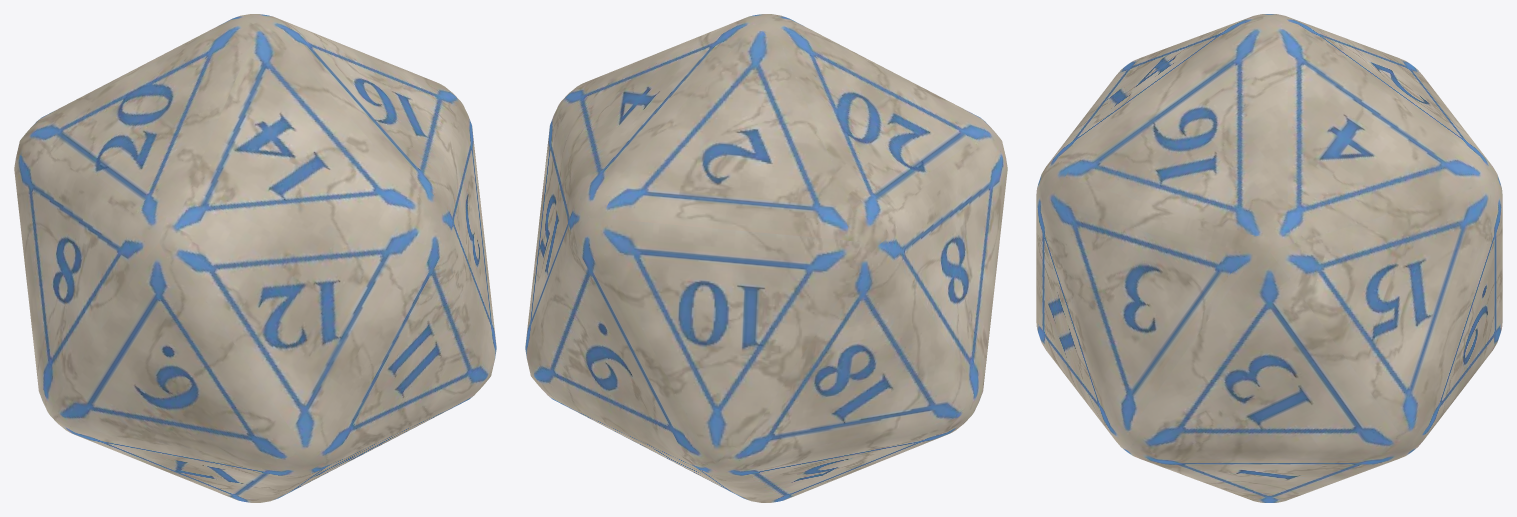
The model's file is ayleid-d20.glb.
3 renders of one model, left to right at view 1: azimuth 30°, elevation 25°; view 2: azimuth 150°, elevation 25°; view 3: azimuth 270°, elevation 25°, orthographic.
Visible parts, largest first — view 1: ayleid_d20; view 2: ayleid_d20; view 3: ayleid_d20.
Part boxes in pixels (left/top/right/bottom): ayleid_d20: left=14, top=14, right=496, bottom=502; ayleid_d20: left=525, top=14, right=1007, bottom=502; ayleid_d20: left=1036, top=14, right=1502, bottom=502.
Size of the model in its own units: 1.74 by 1.9 by 1.67.
Materials: 1 (1 with a texture image).
